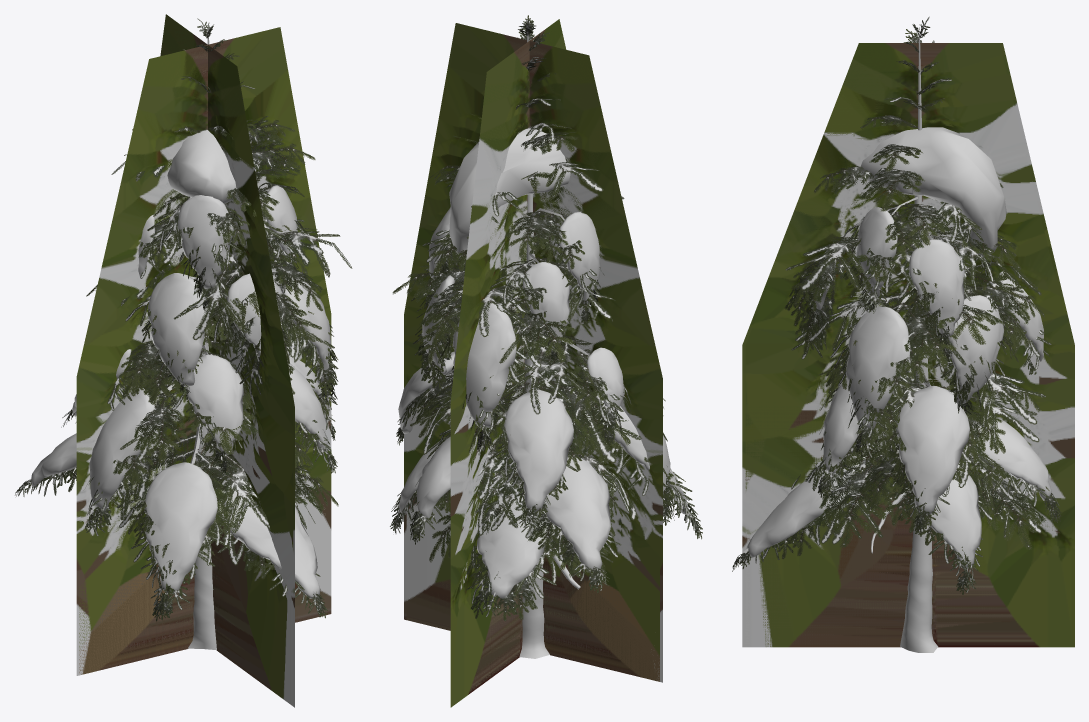
File: Spruce4.fbx
3 views of the same model, side by side, from view 1: azimuth 30°, elevation 25°; view 2: azimuth 150°, elevation 25°; view 3: azimuth 270°, elevation 25° (orthographic).
Visible parts, largest first — view 1: Billboard, LOD0, Branch_snowdrift_12_LOD0, Branch_snowdrift_2_LOD0, Branch_snowdrift_10_LOD0, Branch_snowdrift_6_LOD0, Branch_snowdrift_14_LOD0, Branch_snowdrift_1_LOD0, Branch_snowdrift_5_LOD0, Branch_snowdrift_11_LOD0; view 2: Billboard, LOD0, Branch_snowdrift_11_LOD0, Branch_snowdrift_8_LOD0, Branch_snowdrift_14_LOD0, Branch_snowdrift_5_LOD0, Branch_snowdrift_15_LOD00, Branch_snowdrift_3_LOD0, Branch_snowdrift_9_LOD0, Branch_snowdrift_7_LOD0, Branch_snowdrift_6_LOD0, Branch_snowdrift_4_LOD0; view 3: Billboard, LOD0, Branch_snowdrift_9_LOD0, Branch_snowdrift_10_LOD0, Branch_snowdrift_14_LOD0, Branch_snowdrift_1_LOD0, Branch_snowdrift_4_LOD0, Branch_snowdrift_7_LOD0, Branch_snowdrift_15_LOD00.
Boxes of the visible parts, x1,y1,x2,y2 form: Billboard: [76, 14, 331, 707]; LOD0: [15, 18, 352, 650]; Branch_snowdrift_12_LOD0: [148, 195, 282, 455]; Branch_snowdrift_2_LOD0: [144, 462, 217, 594]; Branch_snowdrift_10_LOD0: [264, 185, 330, 451]; Branch_snowdrift_6_LOD0: [89, 388, 155, 510]; Branch_snowdrift_14_LOD0: [167, 130, 236, 204]; Branch_snowdrift_1_LOD0: [221, 479, 320, 598]; Branch_snowdrift_5_LOD0: [31, 433, 76, 487]; Branch_snowdrift_11_LOD0: [116, 215, 154, 379]; Billboard: [404, 19, 662, 707]; LOD0: [390, 15, 702, 658]; Branch_snowdrift_11_LOD0: [522, 212, 624, 423]; Branch_snowdrift_8_LOD0: [503, 390, 573, 511]; Branch_snowdrift_14_LOD0: [449, 127, 570, 259]; Branch_snowdrift_5_LOD0: [541, 455, 610, 571]; Branch_snowdrift_15_LOD00: [452, 302, 516, 427]; Branch_snowdrift_3_LOD0: [477, 497, 554, 598]; Branch_snowdrift_9_LOD0: [398, 207, 454, 433]; Branch_snowdrift_7_LOD0: [417, 436, 450, 520]; Branch_snowdrift_6_LOD0: [597, 400, 670, 494]; Branch_snowdrift_4_LOD0: [399, 437, 445, 515]; Billboard: [742, 43, 1074, 647]; LOD0: [732, 16, 1061, 652]; Branch_snowdrift_9_LOD0: [896, 239, 1003, 514]; Branch_snowdrift_10_LOD0: [823, 207, 910, 475]; Branch_snowdrift_14_LOD0: [861, 127, 1006, 259]; Branch_snowdrift_1_LOD0: [746, 453, 865, 558]; Branch_snowdrift_4_LOD0: [926, 464, 981, 569]; Branch_snowdrift_7_LOD0: [969, 416, 1051, 500]; Branch_snowdrift_15_LOD00: [998, 271, 1043, 361].
Size of what is drawn, in the model's own units: 228 by 508 by 251.
